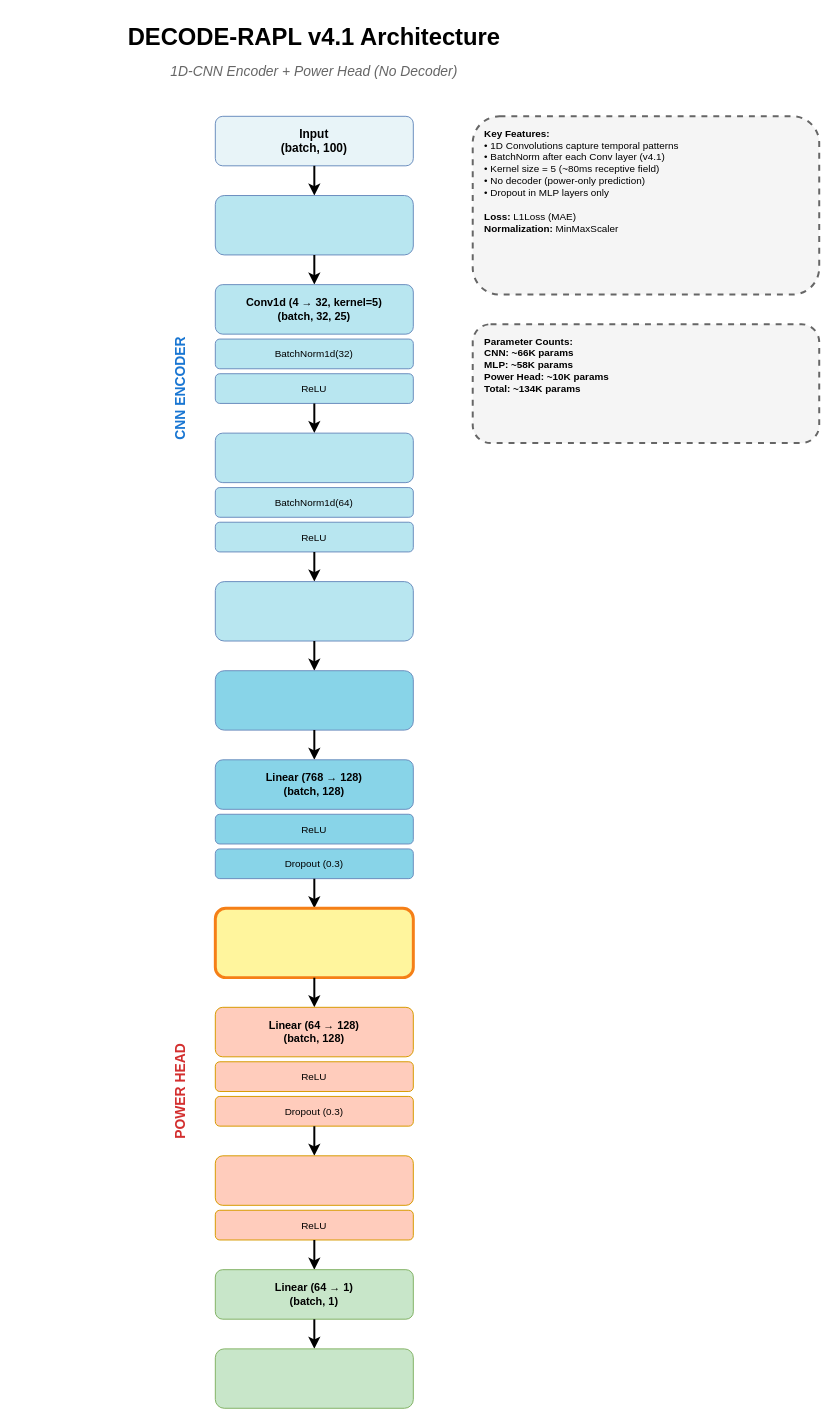
Some shapes in this 837 by 1426 pixel diagram are drawn without their labels. Here are the shapes that lost their labels. From the top down, the centre of each, then its label:
At (x=313, y=225): "Reshape (batch, 4, 25) 4 features × 25 delays".
At (x=313, y=457): "Conv1d (32 → 64, kernel=5) (batch, 64, 25)".
At (x=313, y=611): "MaxPool1d (kernel=2) (batch, 64, 12) 25 → 12 timesteps".
At (x=313, y=700): "Flatten (batch, 768) 64 × 12 = 768".
At (x=313, y=942): "Linear (128 → 64) (batch, 64) ★ Latent Space ★".
At (x=313, y=1180): "Linear (128 → 64) (batch, 64)".
At (x=313, y=1378): "Power Prediction (batch, 1) Watts".
